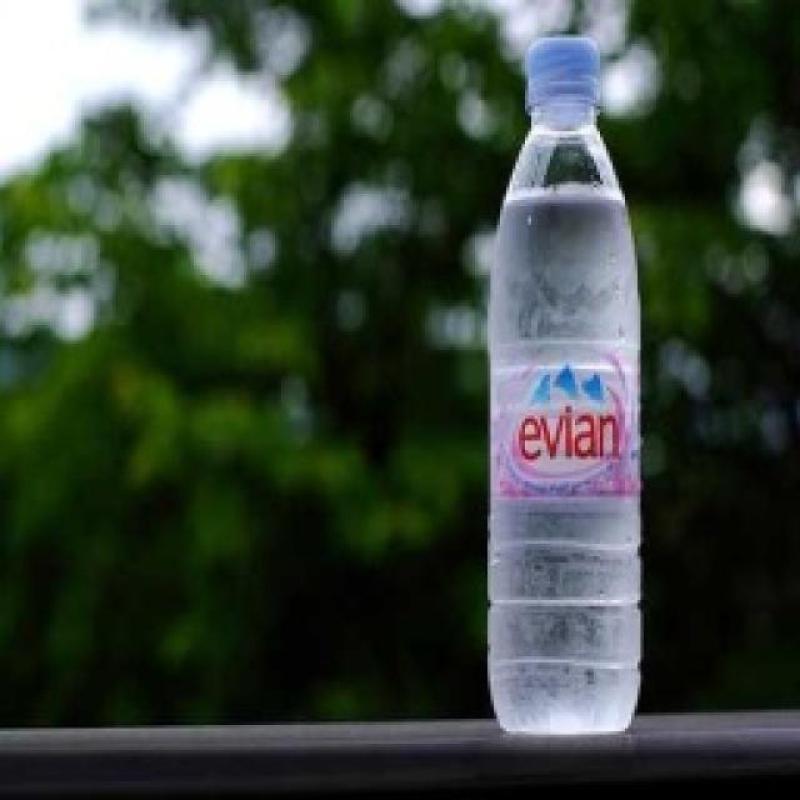botella: (490, 36, 644, 742)
